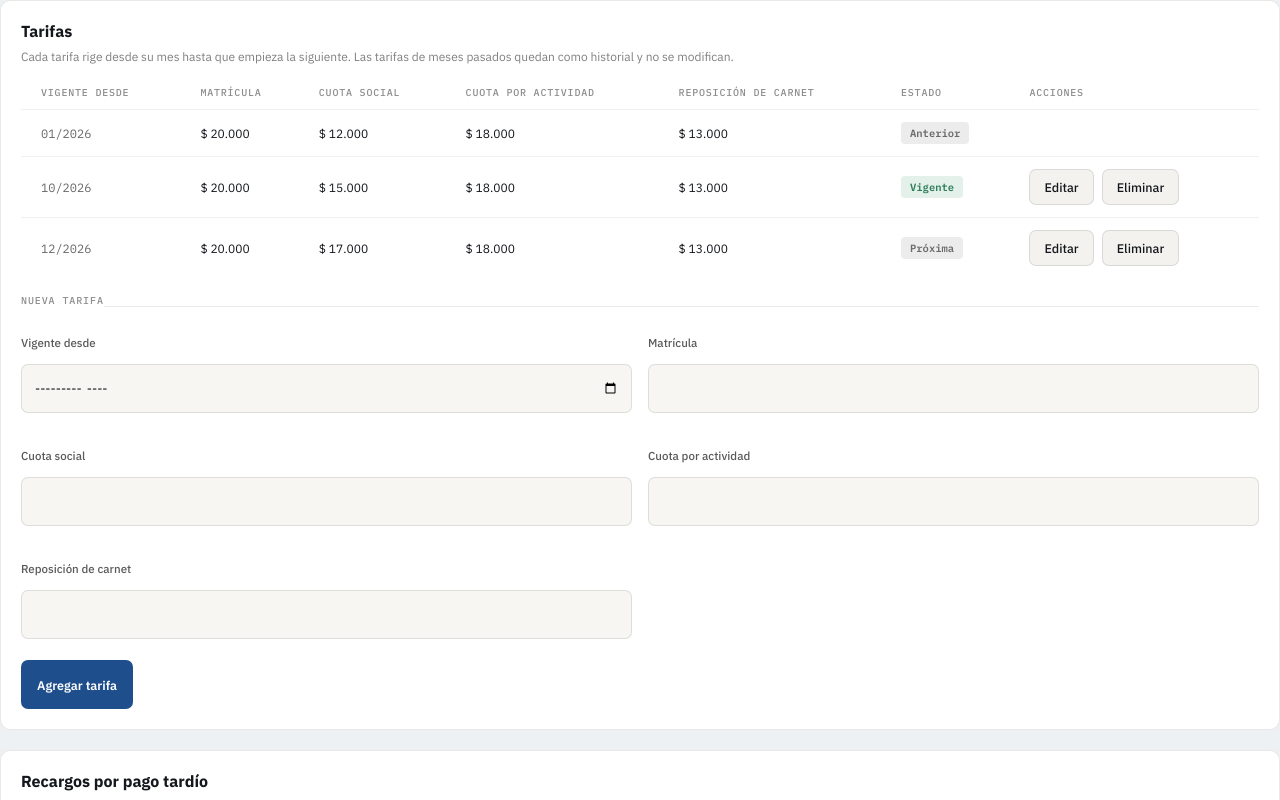
Test: PricingView › asks for confirmation before deleting and explains a refused delete
Expected: the table named "Tarifas" is shown, [21, 76, 1259, 278]
Click the button with aria-label "Eliminar tarifa 12/2026" at (1140, 248), box [1102, 230, 1179, 266]
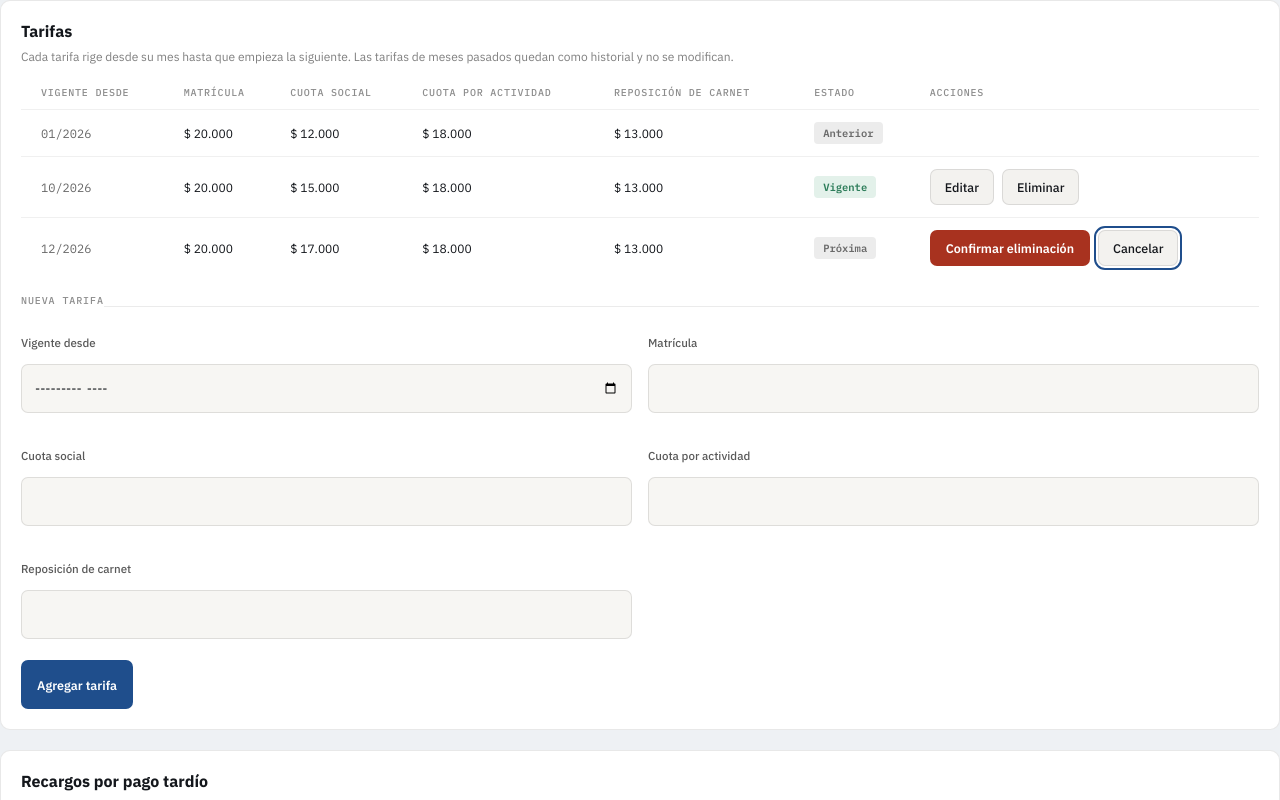
Click the button "Cancelar" at (1138, 248), box [1098, 230, 1178, 266]
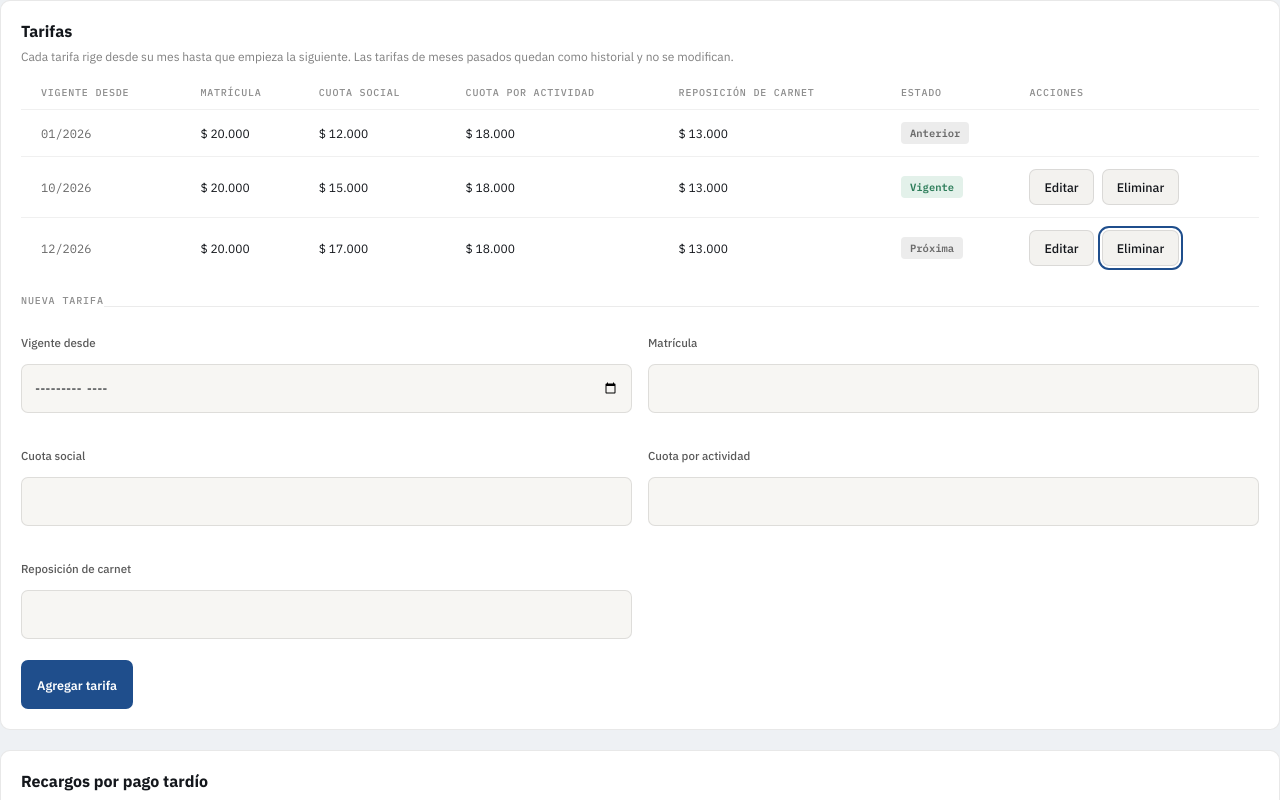
Result: the button "Confirmar eliminación" is gone
Click the button with aria-label "Eliminar tarifa 10/2026" at (1140, 187), box [1102, 169, 1179, 205]
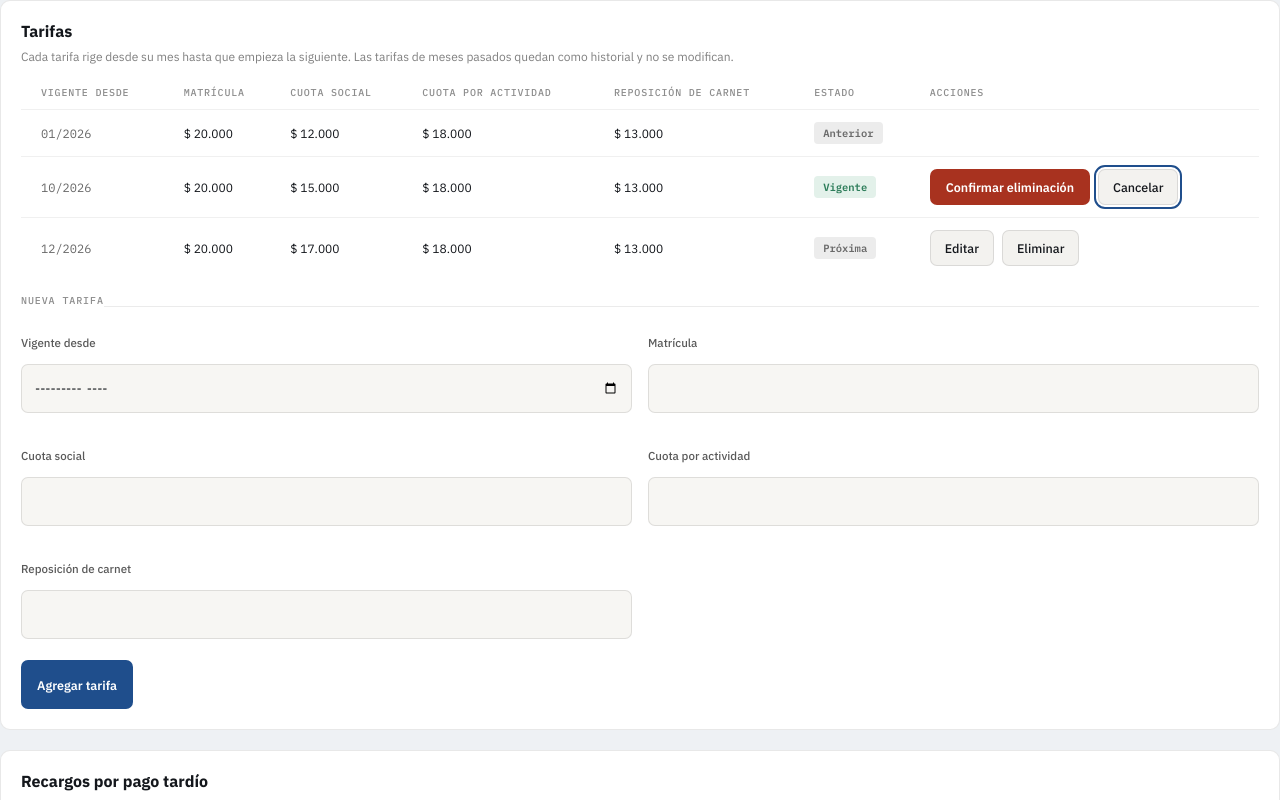
Click the button "Confirmar eliminación" at (1010, 187), box [930, 169, 1090, 205]
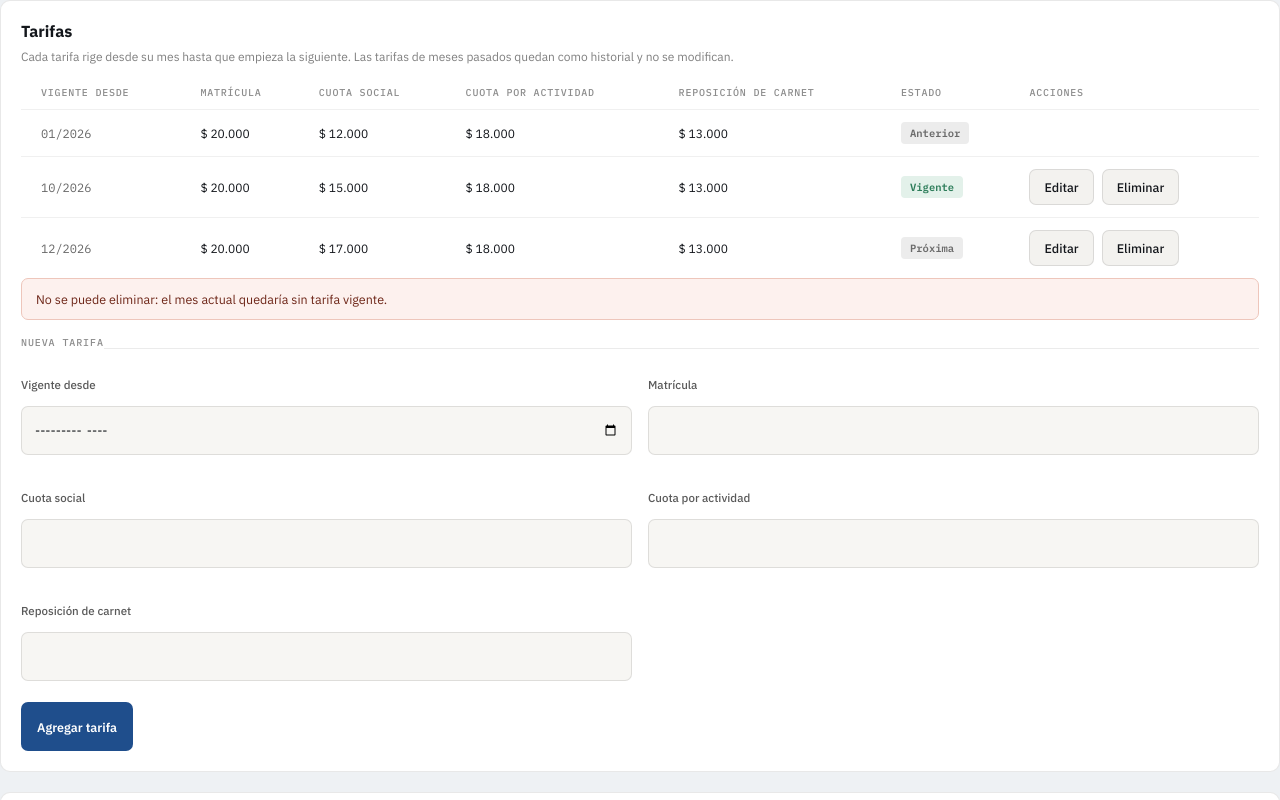
Result: the message reads "No se puede eliminar: el mes actual quedaría sin tarifa vigente." at [36, 291, 387, 307]
